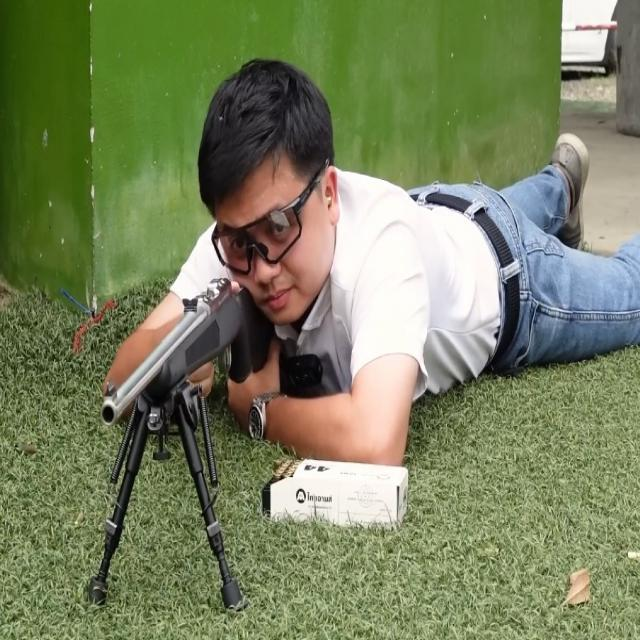rifle: (80, 266, 310, 627)
